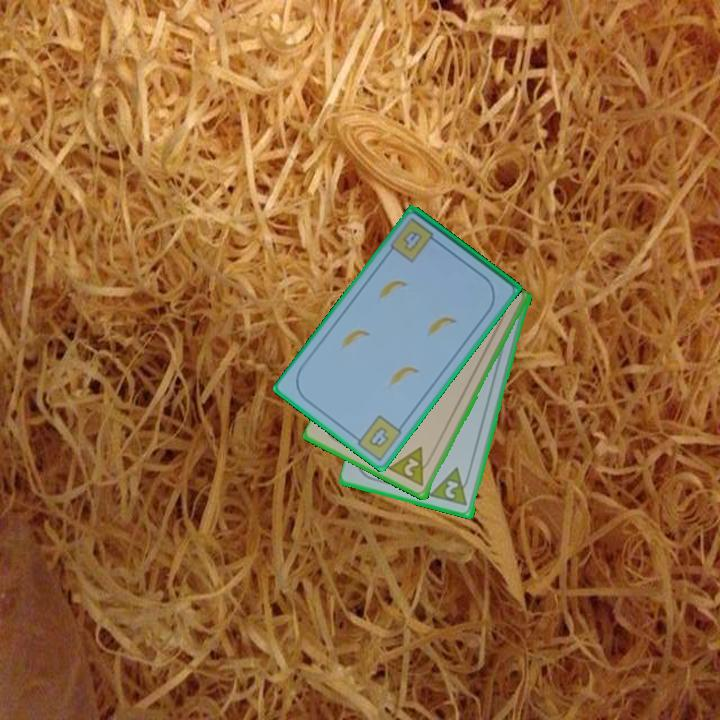2p: (386, 444, 437, 490), (441, 477, 462, 502)
4b: (349, 412, 405, 462), (399, 227, 426, 255)
